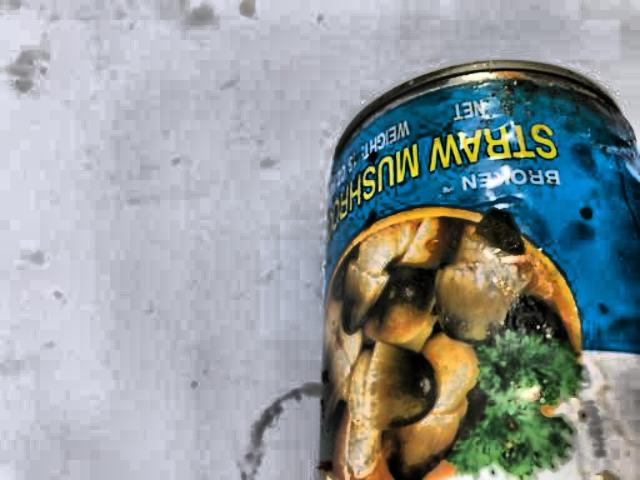Almennt: (308, 51, 640, 480)
